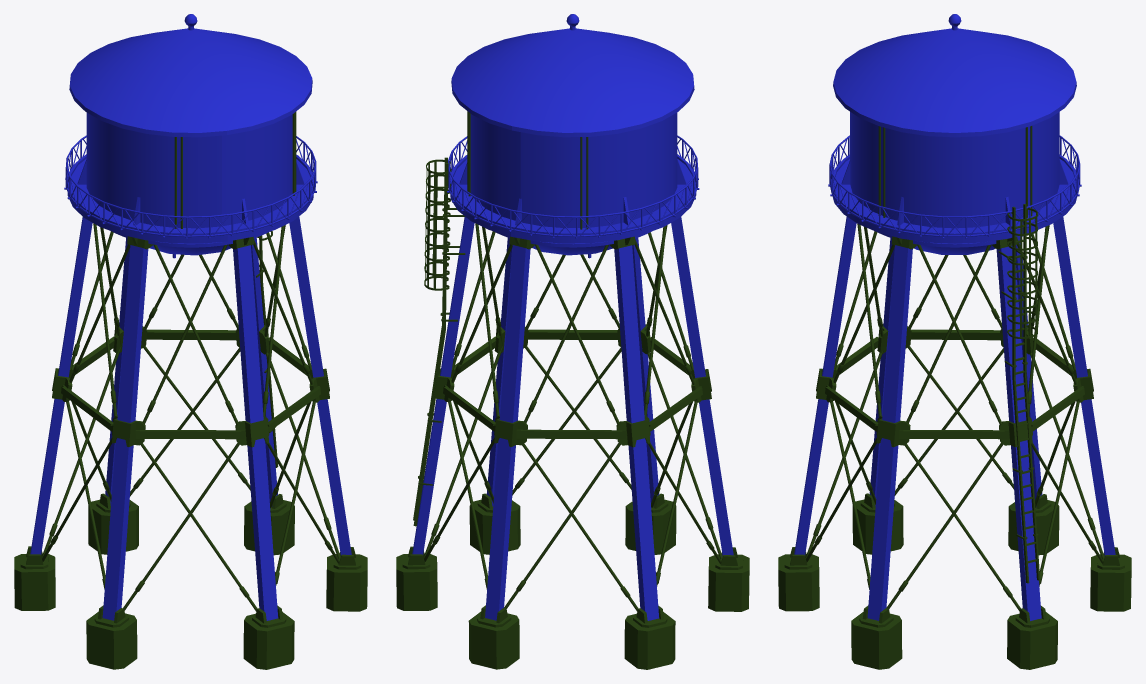
Rendered from water_tower_01.fbx.
The picture shows the model from 3 angles, left to right: view 1: azimuth 30°, elevation 25°; view 2: azimuth 150°, elevation 25°; view 3: azimuth 270°, elevation 25°; orthographic projection.
Parts seen in each view (by area): view 1: water_tower_01; view 2: water_tower_01; view 3: water_tower_01.
Boxes of the visible parts, bbox=[...] form: water_tower_01: bbox=[14, 14, 367, 669]; water_tower_01: bbox=[396, 14, 749, 669]; water_tower_01: bbox=[778, 14, 1131, 669].
Size of the model in its own units: 1011 by 2043 by 1112.
